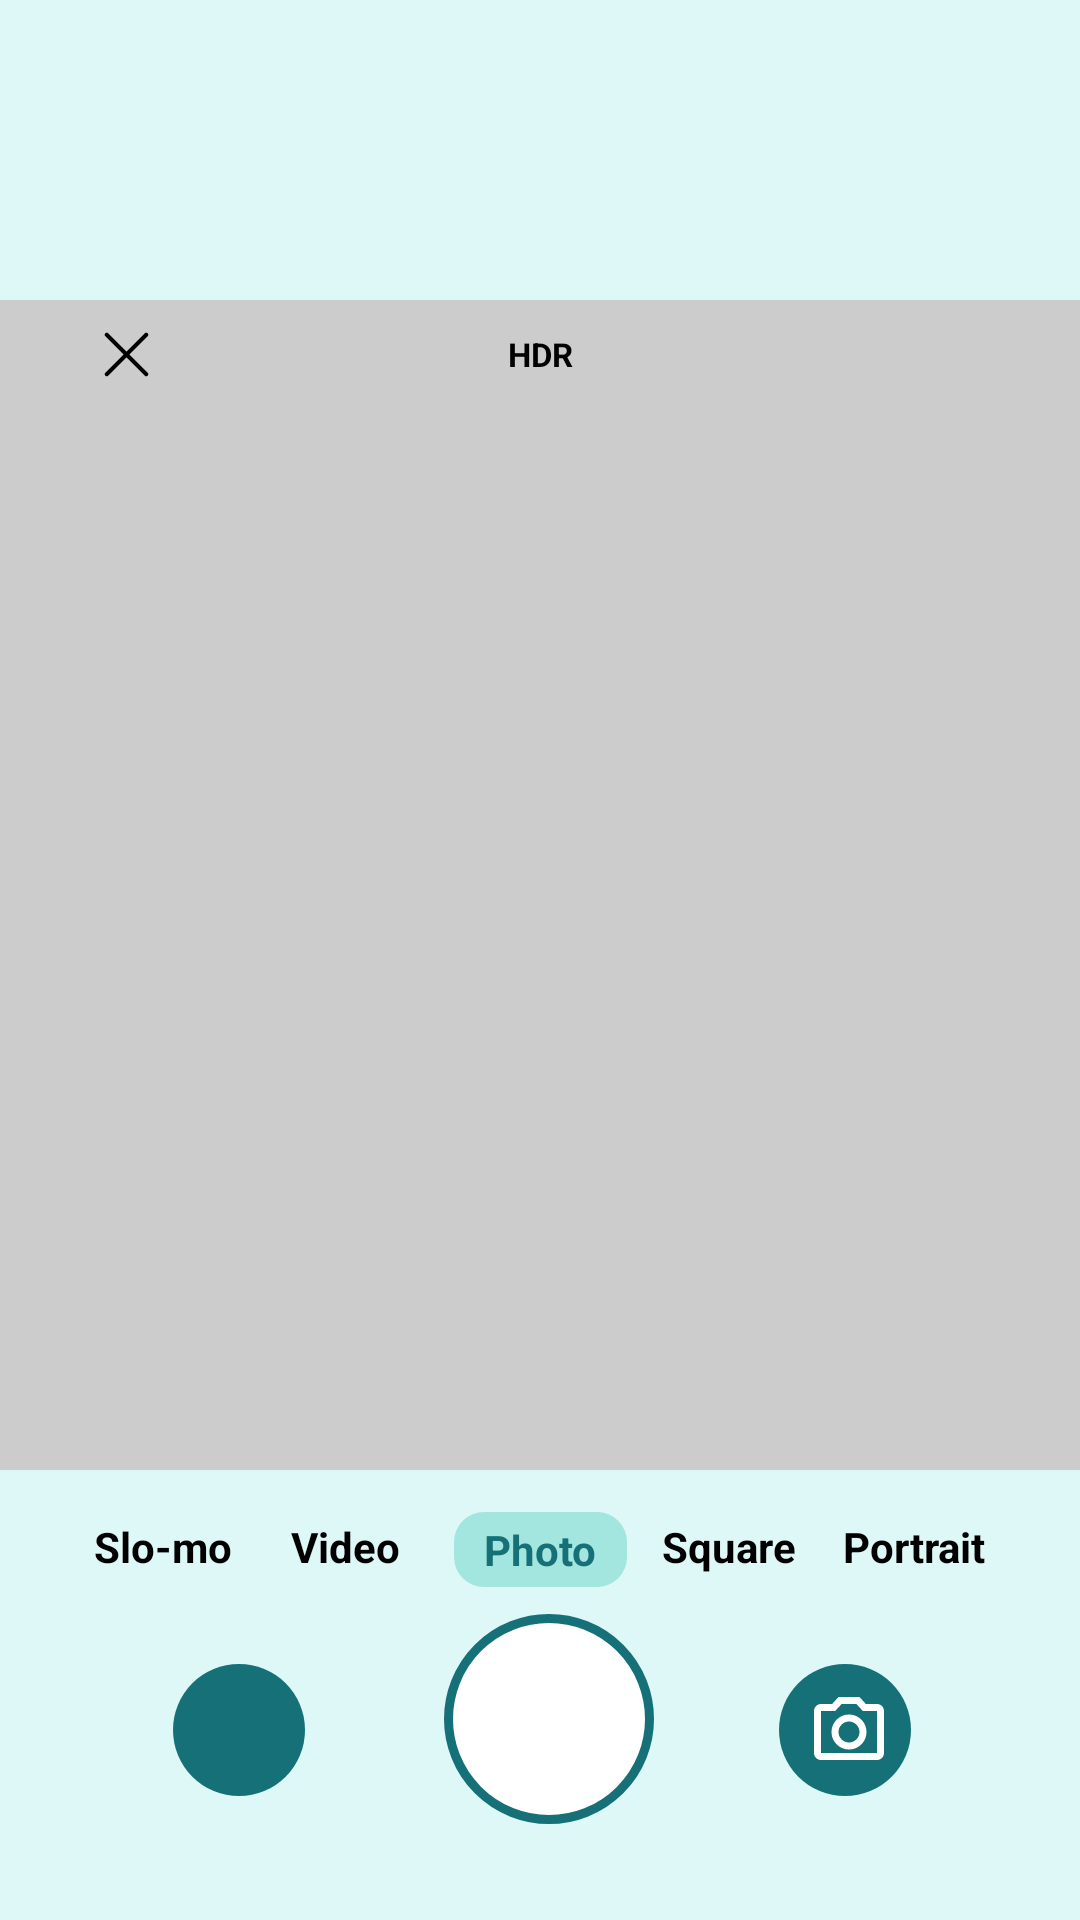

Icons on this 1080×1920 Android screen, each with its box as (x1, y1, x2, y2):
camera: (814, 1697, 884, 1760)
cross: (104, 332, 149, 377)
